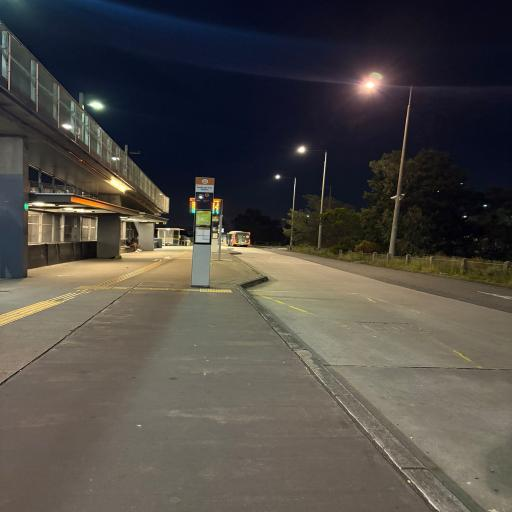clear_path: (3, 246, 289, 442)
platform_edge: (227, 253, 341, 394)
signage: (193, 176, 214, 289), (210, 198, 225, 261)
tgsi: (2, 251, 234, 326)
